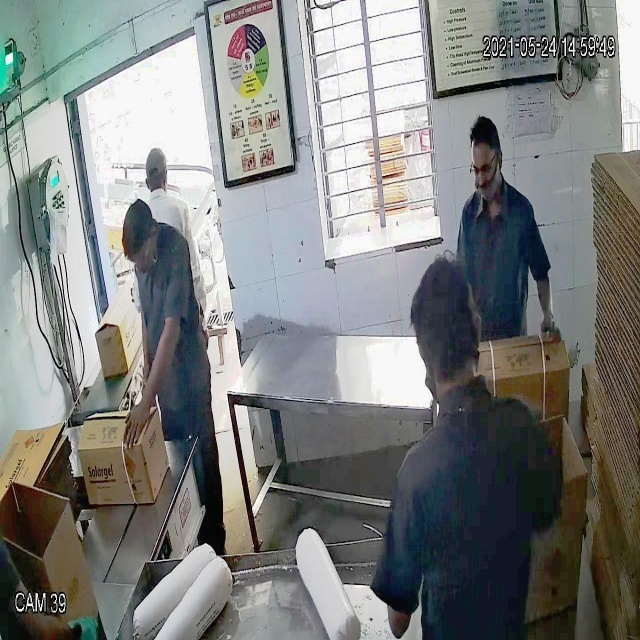Gafas: (466, 152, 502, 185)
